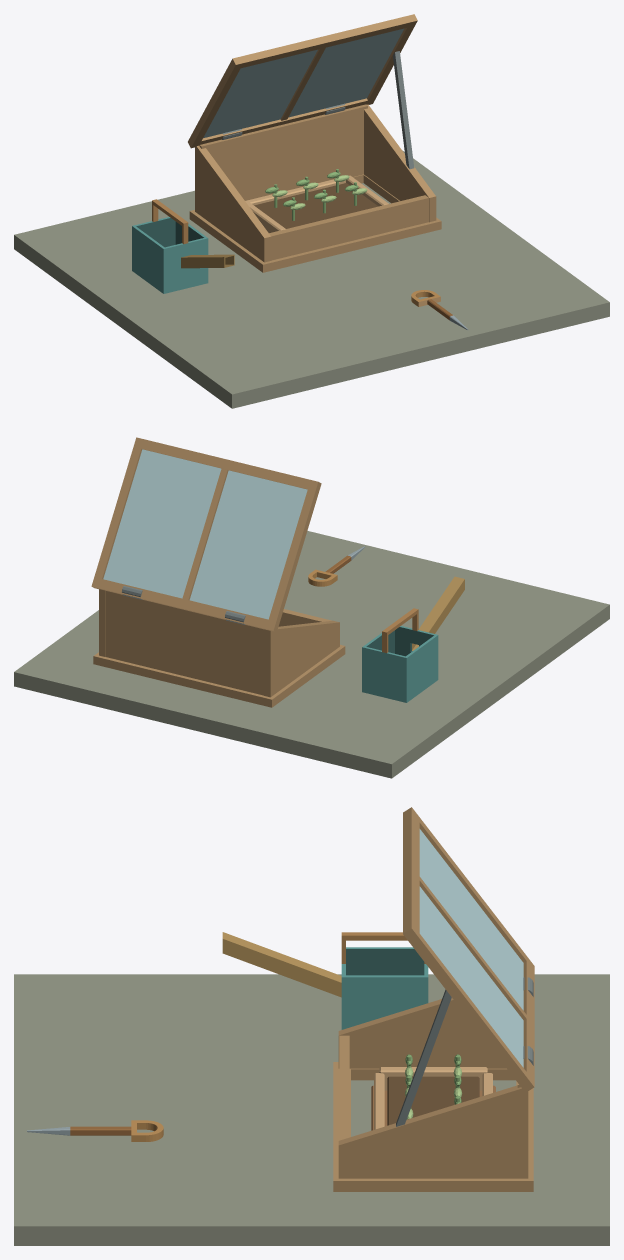
3 renders of one model, top to bottom at view 1: azimuth 30°, elevation 25°; view 2: azimuth 150°, elevation 25°; view 3: azimuth 270°, elevation 25°, orthographic. The views are drawn at different scales.
Parts seen in each view (by area): view 1: SceneOnly_ContinuousGround, open_cold_frame__RearWholeWall, open_cold_frame__WholeOpenCentreRaisedSashFrame, open_cold_frame__RightWholeOpaqueGlassLookPane, open_cold_frame__LeftWholeOpaqueGlassLookPane, whole_seedling_tray__village-seedling-tray-01, open_cold_frame__FrontWholeWall, empty_watering_can__WholeOpenBoxVesselWithSidePort, open_cold_frame__LeftWholeWedgeSide, open_cold_frame__RightWholeWedgeSide, open_cold_frame__WholeOpenCentreGroundFooting, open_cold_frame__WholeFixedSashStay (+3 smaller); view 2: SceneOnly_ContinuousGround, open_cold_frame__RightWholeOpaqueGlassLookPane, open_cold_frame__LeftWholeOpaqueGlassLookPane, open_cold_frame__RearWholeWall, open_cold_frame__WholeOpenCentreRaisedSashFrame, empty_watering_can__WholeOpenBoxVesselWithSidePort, open_cold_frame__LeftWholeWedgeSide, open_cold_frame__WholeOpenCentreGroundFooting, open_cold_frame__WholeSashCentreMullion, empty_watering_can__WholeInclinedSquareBoreSpout, empty_watering_can__WholeOverheadBridgeHandle, open_cold_frame__FrontWholeWall (+1 smaller); view 3: SceneOnly_ContinuousGround, open_cold_frame__RightWholeWedgeSide, open_cold_frame__WholeOpenCentreRaisedSashFrame, open_cold_frame__LeftWholeWedgeSide, empty_watering_can__WholeOpenBoxVesselWithSidePort, open_cold_frame__LeftWholeOpaqueGlassLookPane, whole_seedling_tray__village-seedling-tray-01, open_cold_frame__RightWholeOpaqueGlassLookPane, open_cold_frame__WholeOpenCentreGroundFooting, empty_watering_can__WholeInclinedSquareBoreSpout, open_cold_frame__WholeFixedSashStay, open_cold_frame__FrontWholeWall (+4 smaller).
Boxes of the visible parts, bbox=[...] form: SceneOnly_ContinuousGround: bbox=[14, 150, 609, 408]; open_cold_frame__RearWholeWall: bbox=[199, 104, 367, 200]; open_cold_frame__WholeOpenCentreRaisedSashFrame: bbox=[188, 14, 417, 148]; open_cold_frame__RightWholeOpaqueGlassLookPane: bbox=[289, 28, 404, 117]; open_cold_frame__LeftWholeOpaqueGlassLookPane: bbox=[203, 49, 317, 138]; whole_seedling_tray__village-seedling-tray-01: bbox=[245, 169, 388, 232]; open_cold_frame__FrontWholeWall: bbox=[269, 195, 428, 260]; empty_watering_can__WholeOpenBoxVesselWithSidePort: bbox=[132, 217, 208, 293]; open_cold_frame__LeftWholeWedgeSide: bbox=[195, 145, 271, 262]; open_cold_frame__RightWholeWedgeSide: bbox=[364, 104, 436, 222]; open_cold_frame__WholeOpenCentreGroundFooting: bbox=[189, 174, 441, 272]; open_cold_frame__WholeFixedSashStay: bbox=[393, 51, 414, 169]; SceneOnly_ContinuousGround: bbox=[14, 531, 609, 778]; open_cold_frame__RightWholeOpaqueGlassLookPane: bbox=[103, 449, 221, 598]; open_cold_frame__LeftWholeOpaqueGlassLookPane: bbox=[189, 470, 307, 619]; open_cold_frame__RearWholeWall: bbox=[106, 591, 263, 695]; open_cold_frame__WholeOpenCentreRaisedSashFrame: bbox=[91, 437, 321, 632]; empty_watering_can__WholeOpenBoxVesselWithSidePort: bbox=[362, 626, 438, 702]; open_cold_frame__LeftWholeWedgeSide: bbox=[263, 620, 339, 697]; open_cold_frame__WholeOpenCentreGroundFooting: bbox=[93, 644, 345, 707]; open_cold_frame__WholeSashCentreMullion: bbox=[182, 468, 228, 600]; empty_watering_can__WholeInclinedSquareBoreSpout: bbox=[412, 576, 464, 650]; empty_watering_can__WholeOverheadBridgeHandle: bbox=[382, 608, 418, 653]; open_cold_frame__FrontWholeWall: bbox=[278, 609, 331, 626]; SceneOnly_ContinuousGround: bbox=[14, 974, 609, 1245]; open_cold_frame__RightWholeWedgeSide: bbox=[338, 1085, 528, 1178]; open_cold_frame__WholeOpenCentreRaisedSashFrame: bbox=[403, 807, 534, 1092]; open_cold_frame__LeftWholeWedgeSide: bbox=[338, 997, 506, 1068]; empty_watering_can__WholeOpenBoxVesselWithSidePort: bbox=[341, 947, 428, 1029]; open_cold_frame__LeftWholeOpaqueGlassLookPane: bbox=[419, 829, 523, 1010]; whole_seedling_tray__village-seedling-tray-01: bbox=[371, 1054, 495, 1130]; open_cold_frame__RightWholeOpaqueGlassLookPane: bbox=[419, 886, 523, 1067]; open_cold_frame__WholeOpenCentreGroundFooting: bbox=[333, 1062, 533, 1191]; empty_watering_can__WholeInclinedSquareBoreSpout: bbox=[222, 932, 341, 997]; open_cold_frame__WholeFixedSashStay: bbox=[396, 989, 451, 1126]; open_cold_frame__FrontWholeWall: bbox=[339, 1035, 349, 1140].
Size of the model in its own units: 2.2 by 1.16 by 2.2.
